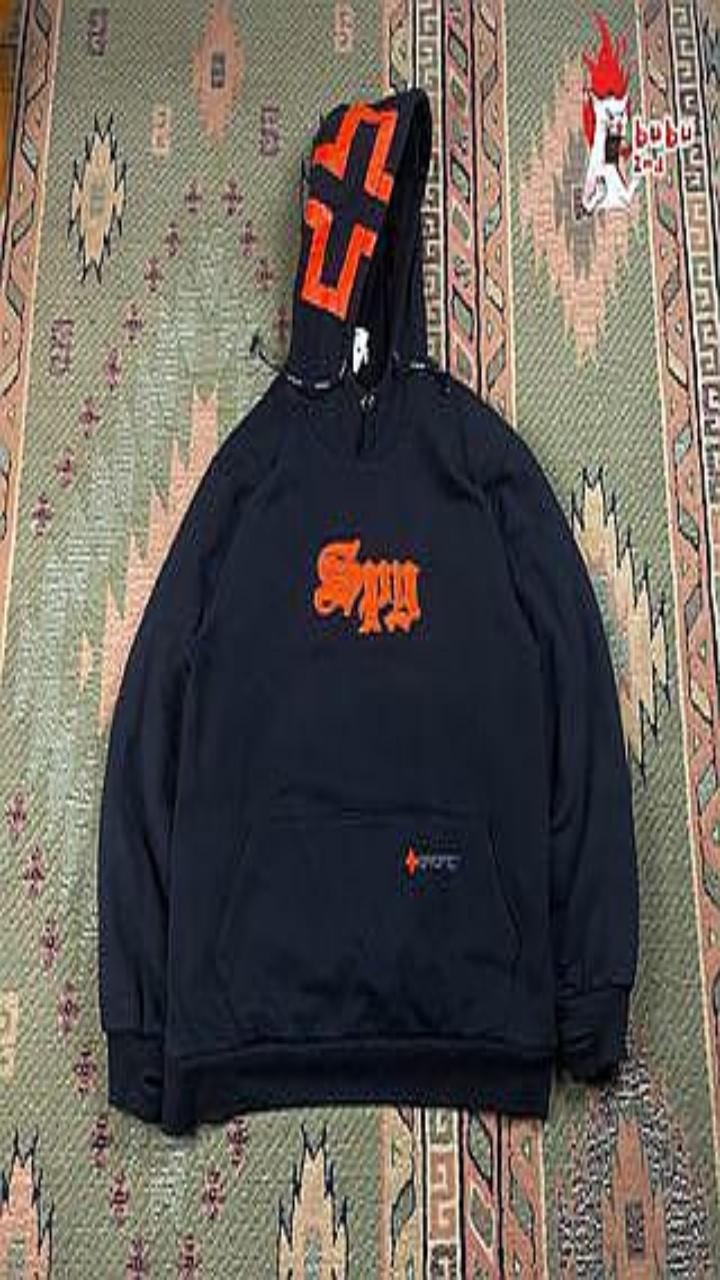Hoodie: (98, 89, 637, 1133)
